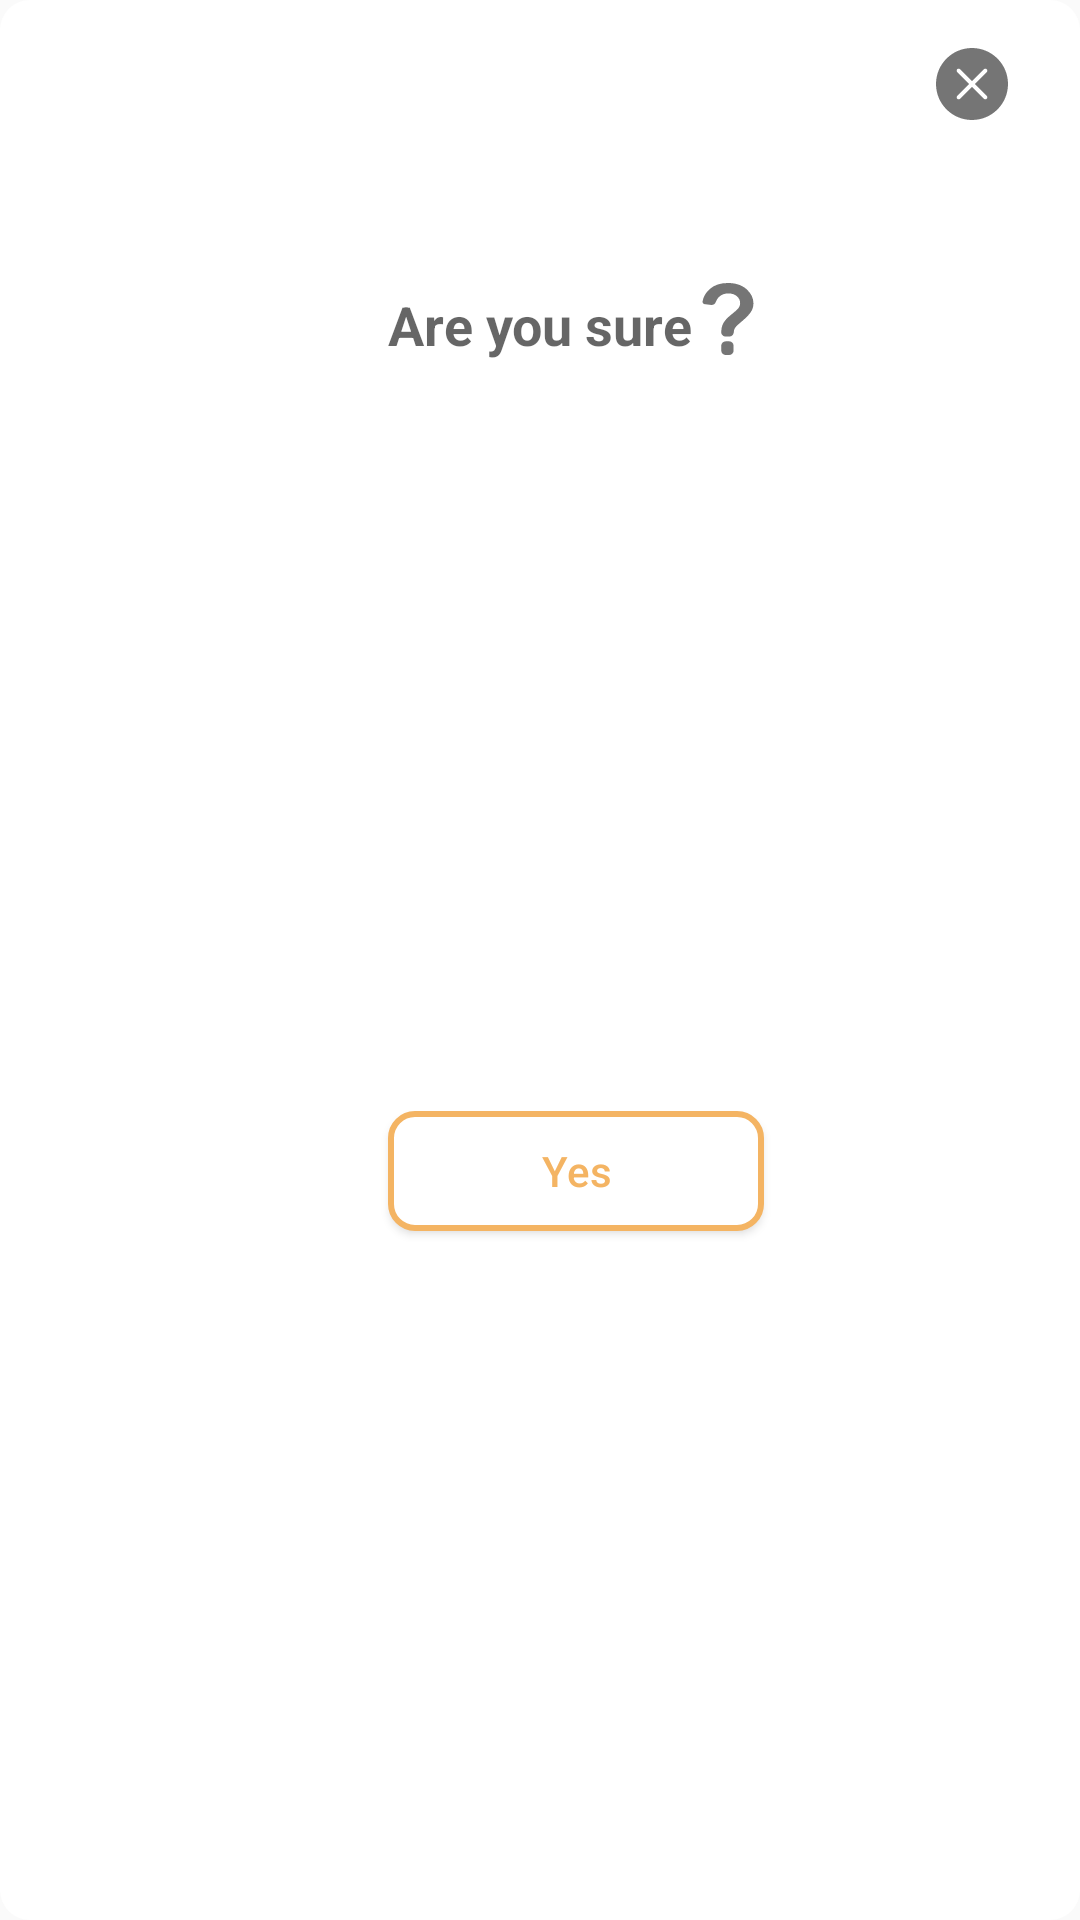

Screen size 1080px×1920px. Icon name, then its center in pixels as point (x, y):
close round: point (972, 84)
question mark: point (728, 319)
